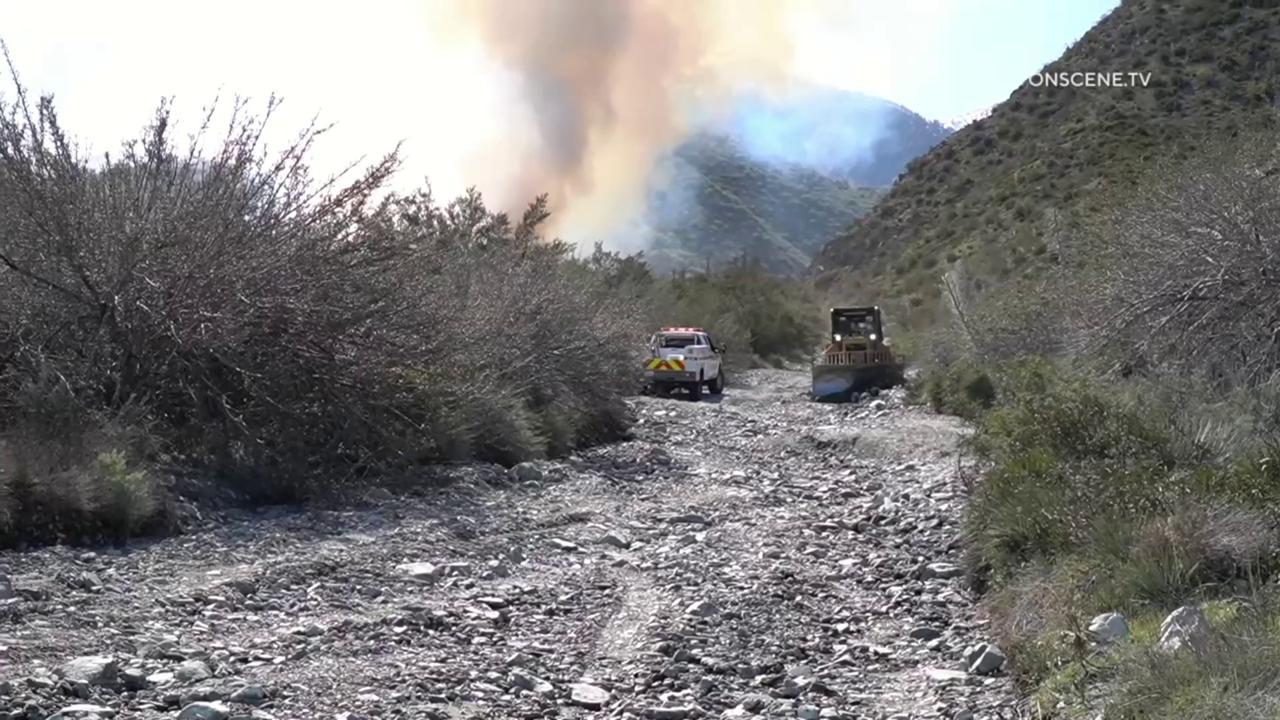smoke: (0, 0, 913, 270)
